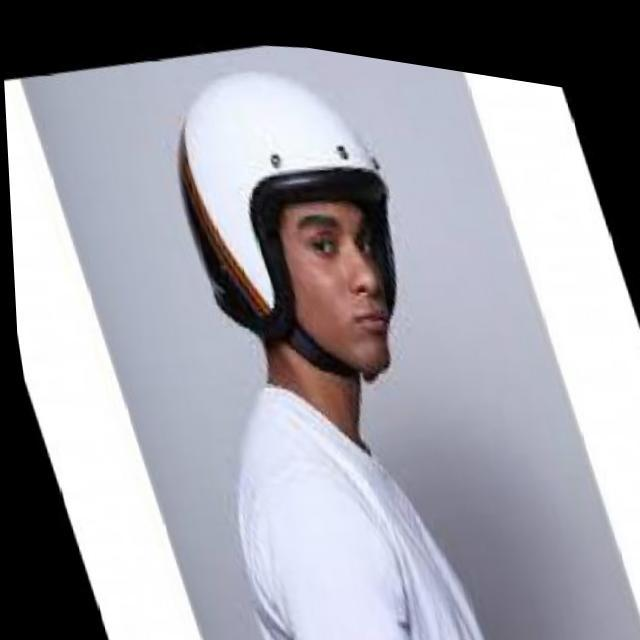Helmet: (173, 67, 403, 381)
